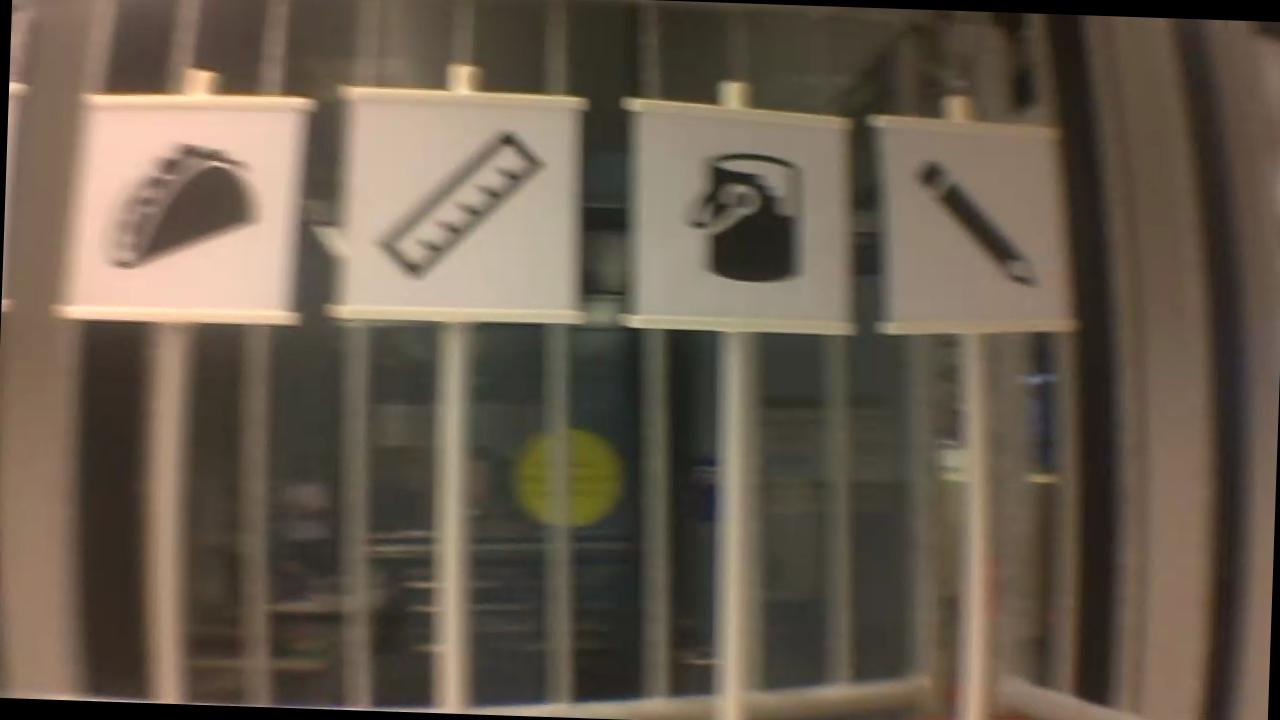bucket: (676, 145, 811, 291)
pencil: (906, 153, 1049, 297)
ruler: (370, 117, 557, 291)
taco: (90, 130, 268, 281)
